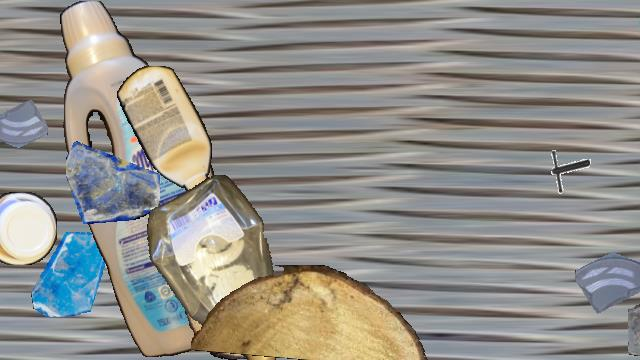glass: (66, 130, 160, 224), (29, 232, 113, 316), (575, 234, 640, 322), (0, 93, 47, 161), (628, 271, 640, 359), (638, 1, 640, 59)
metal: (181, 150, 243, 212), (542, 147, 590, 195)
plastic: (58, 1, 262, 357), (142, 175, 288, 359), (117, 66, 211, 194), (0, 192, 57, 264)
wood: (191, 265, 431, 359), (183, 253, 259, 359)
